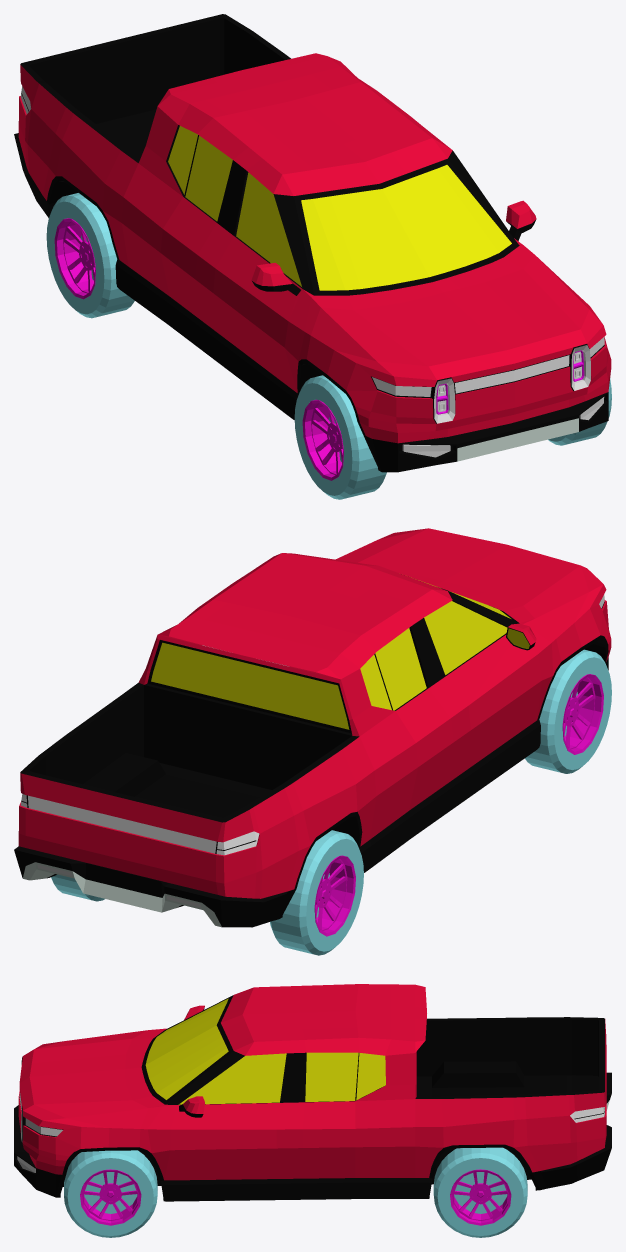
Rendered from Car_5_Electric.fbx.
The picture shows the model from 3 angles, top to bottom: view 1: azimuth 30°, elevation 25°; view 2: azimuth 150°, elevation 25°; view 3: azimuth 270°, elevation 25°; orthographic projection. The views are drawn at different scales.
Parts seen in each view (by area): view 1: Car_5_Body_Electric, Car_5_Wheel_FR, Car_5_Wheel_RR, Car_5_LowBeam_Light, Car_5_Right_Turn_Light, Car_5_Fog_Lights_Front, Car_5_Wheel_FL; view 2: Car_5_Body_Electric, Car_5_Wheel_RR, Car_5_Wheel_FR, Car_5_Brake_Light, Car_5_Reverse_Light, Car_5_Right_Turn_Light; view 3: Car_5_Body_Electric, Car_5_Wheel_RL, Car_5_Wheel_FL, Car_5_Left_Turn_Light.
Part boxes in pixels (left/top/right/bottom): Car_5_Body_Electric: left=14, top=14, right=611, bottom=472; Car_5_Wheel_FR: left=294, top=375, right=386, bottom=499; Car_5_Wheel_RR: left=46, top=193, right=134, bottom=318; Car_5_LowBeam_Light: left=372, top=337, right=604, bottom=396; Car_5_Right_Turn_Light: left=20, top=86, right=455, bottom=423; Car_5_Fog_Lights_Front: left=402, top=397, right=604, bottom=457; Car_5_Wheel_FL: left=548, top=378, right=611, bottom=445; Car_5_Body_Electric: left=14, top=528, right=611, bottom=927; Car_5_Wheel_RR: left=270, top=830, right=363, bottom=955; Car_5_Wheel_FR: left=525, top=649, right=611, bottom=773; Car_5_Brake_Light: left=28, top=645, right=288, bottom=848; Car_5_Reverse_Light: left=28, top=803, right=215, bottom=853; Car_5_Right_Turn_Light: left=216, top=831, right=259, bottom=855; Car_5_Body_Electric: left=14, top=984, right=611, bottom=1201; Car_5_Wheel_RL: left=433, top=1147, right=527, bottom=1237; Car_5_Wheel_FL: left=64, top=1150, right=157, bottom=1237; Car_5_Left_Turn_Light: left=21, top=1107, right=604, bottom=1142.
Size of the model in its own units: 213 by 177 by 528.
